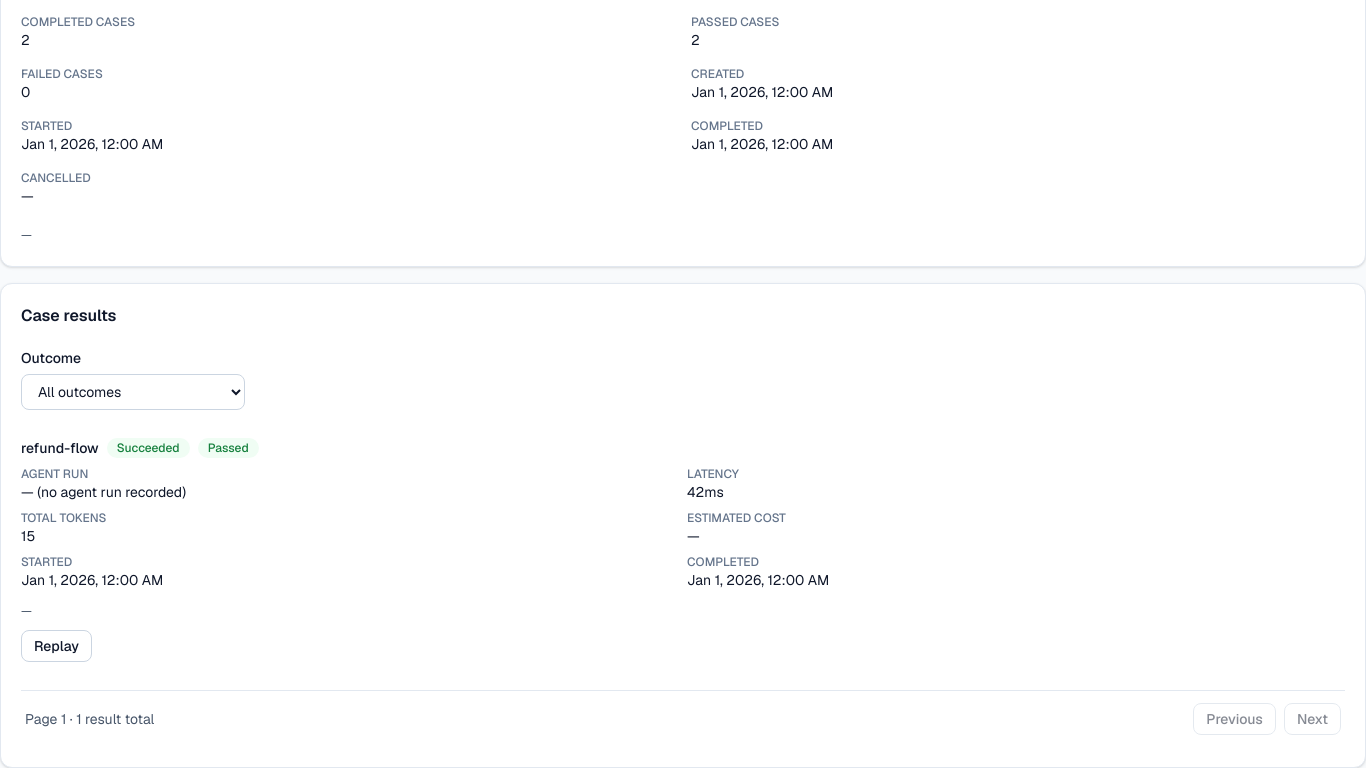
Test: Replay Result (Phase 23 Chunk 3) › shows the real 409 rejection when replay is not supported, never a fabricated success
The image size is (1366, 768).
(page scrolled)
Expected: the text "refund-flow" is shown, [21,438,99,458]
Click the button "Replay": (56, 646) [21,630,92,662]
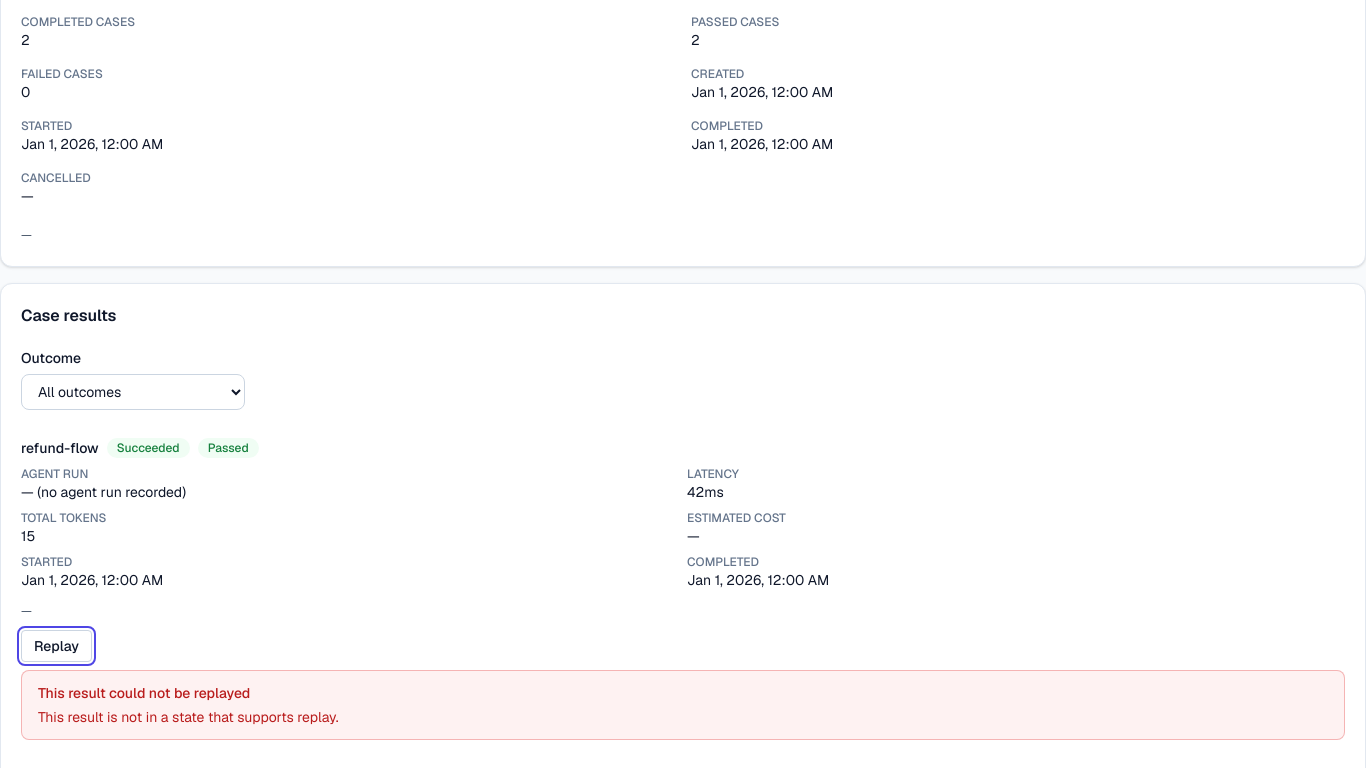
Expected: the text "This result is not in a state that supports replay." is shown, [38,708,339,726]
